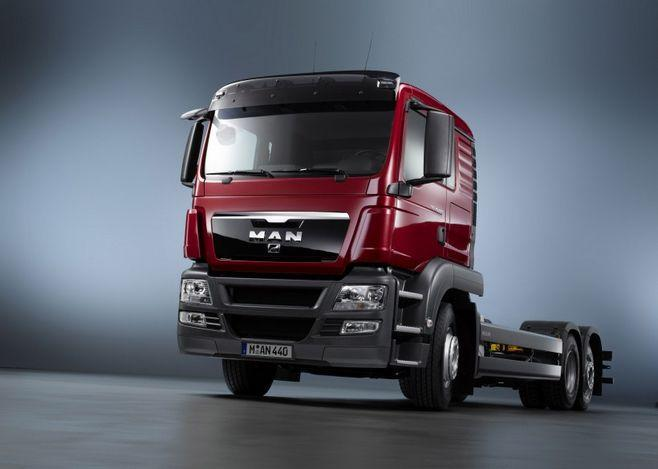卡车: (170, 65, 626, 449)
